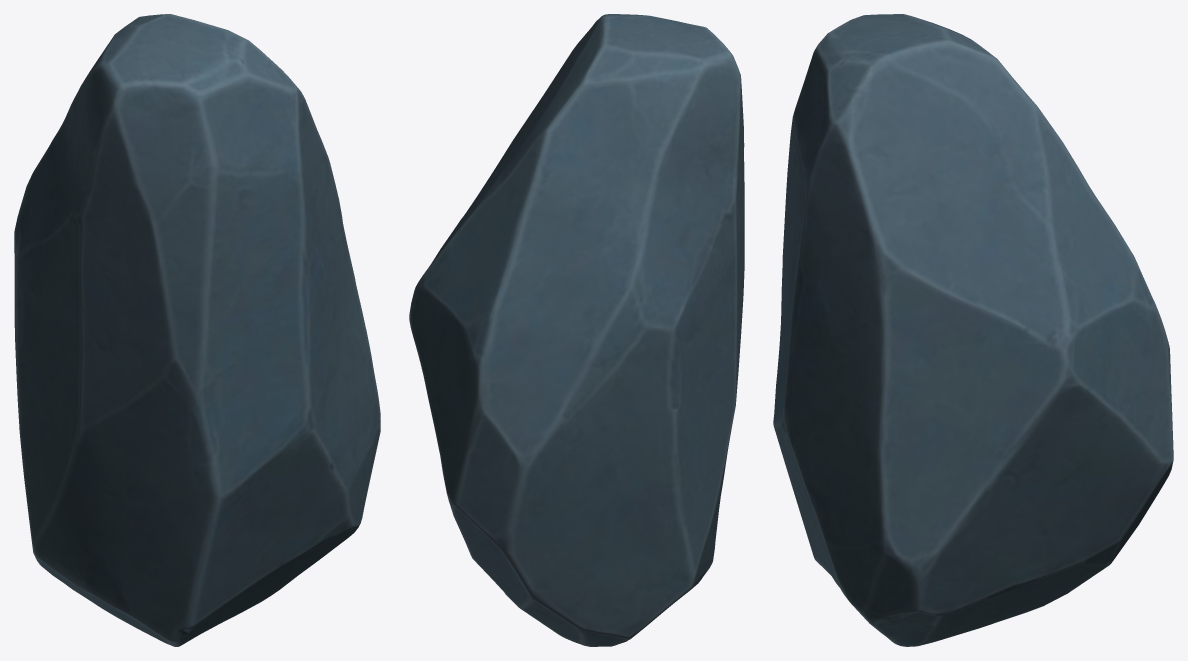
File: sky_boulder_e.glb
The picture shows the model from 3 angles, left to right: view 1: azimuth 30°, elevation 25°; view 2: azimuth 150°, elevation 25°; view 3: azimuth 270°, elevation 25°; orthographic projection. The views are drawn at different scales.
Parts seen in each view (by area): view 1: boulder_e; view 2: boulder_e; view 3: boulder_e.
Boxes of the visible parts, left/top/right/bottom form: boulder_e: left=14, top=14, right=380, bottom=646; boulder_e: left=409, top=14, right=744, bottom=646; boulder_e: left=773, top=14, right=1173, bottom=646.
Bounding box in the file's own units: 7.62 × 14.32 × 9.02.
1 material, 1 textured.
